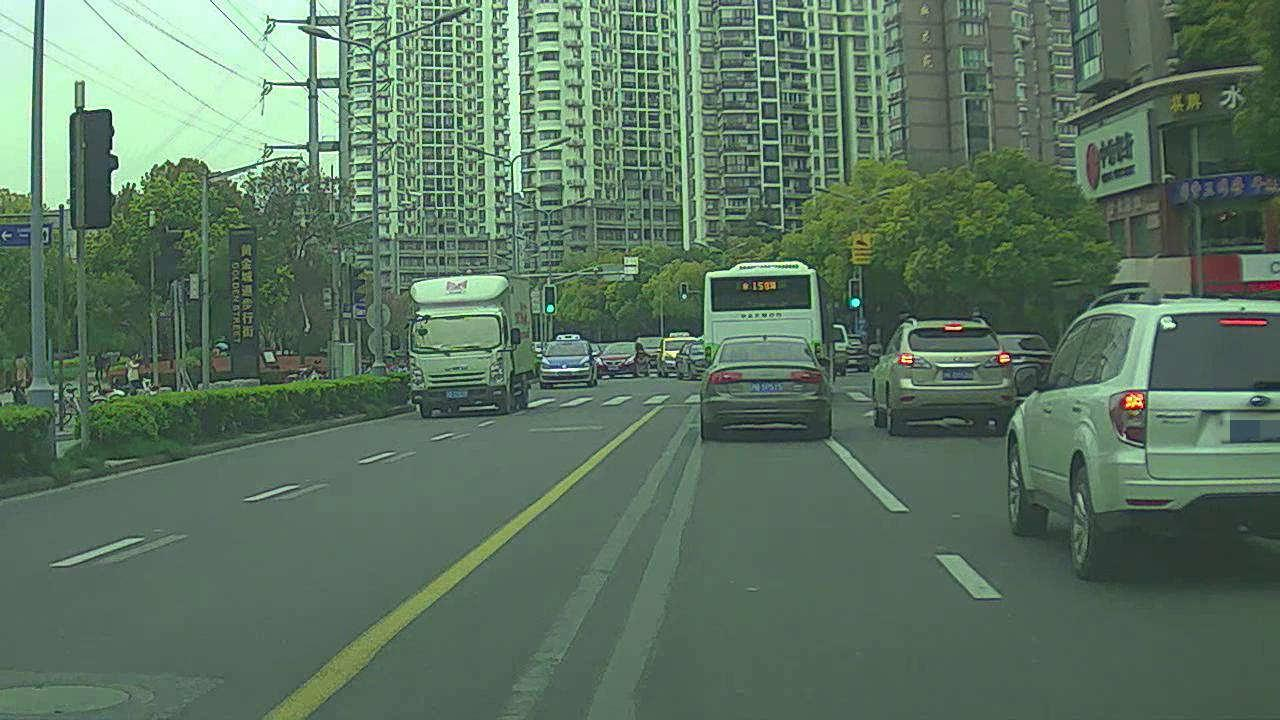traffic_light: (848, 276, 866, 311), (545, 285, 559, 314), (679, 282, 688, 302)
